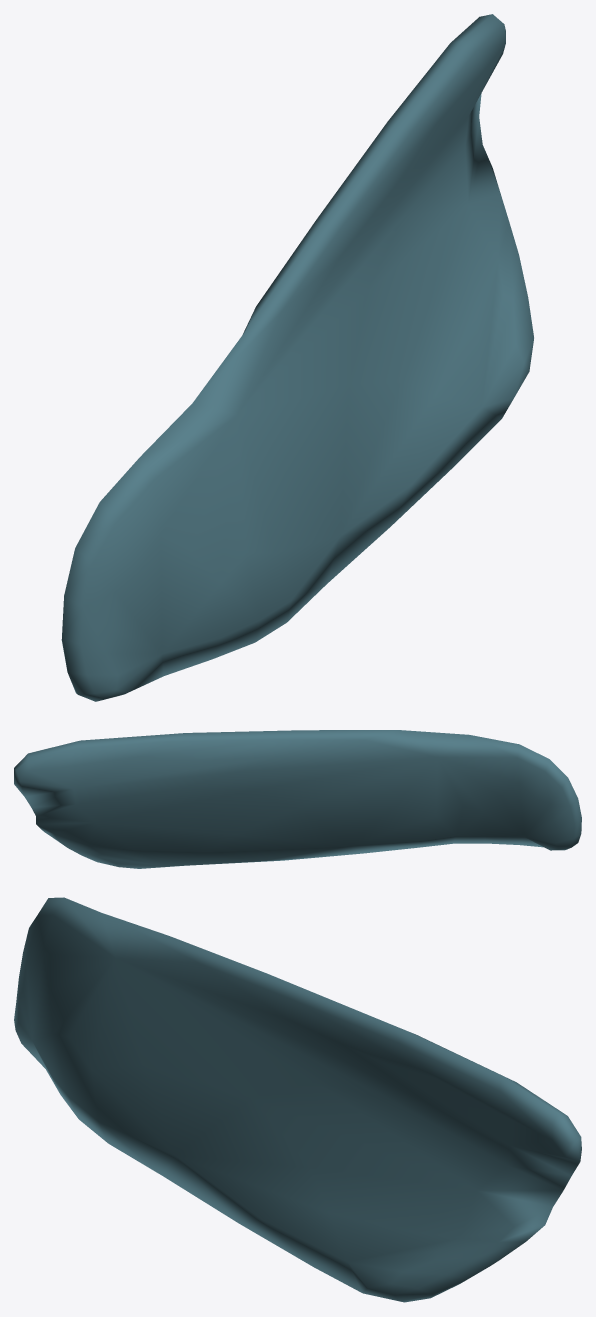
Rendered from Anterior_belly_of_digastric_muscle_on_mandible.l_Generated_Mesh.glb.
3 views of the same model, one above another, from view 1: azimuth 30°, elevation 25°; view 2: azimuth 150°, elevation 25°; view 3: azimuth 270°, elevation 25° (orthographic). The views are drawn at different scales.
Visible parts, largest first — view 1: Anterior_belly_of_digastric_muscle_on_mandible.l_Generated_M; view 2: Anterior_belly_of_digastric_muscle_on_mandible.l_Generated_M; view 3: Anterior_belly_of_digastric_muscle_on_mandible.l_Generated_M.
Part boxes in pixels (box(x1,y1,x2,y2)): Anterior_belly_of_digastric_muscle_on_mandible.l_Generated_M: box(61, 14, 533, 701); Anterior_belly_of_digastric_muscle_on_mandible.l_Generated_M: box(14, 730, 581, 868); Anterior_belly_of_digastric_muscle_on_mandible.l_Generated_M: box(14, 897, 581, 1302).
Size of the model in its own units: 0.0109 by 0.00402 by 0.00866.
